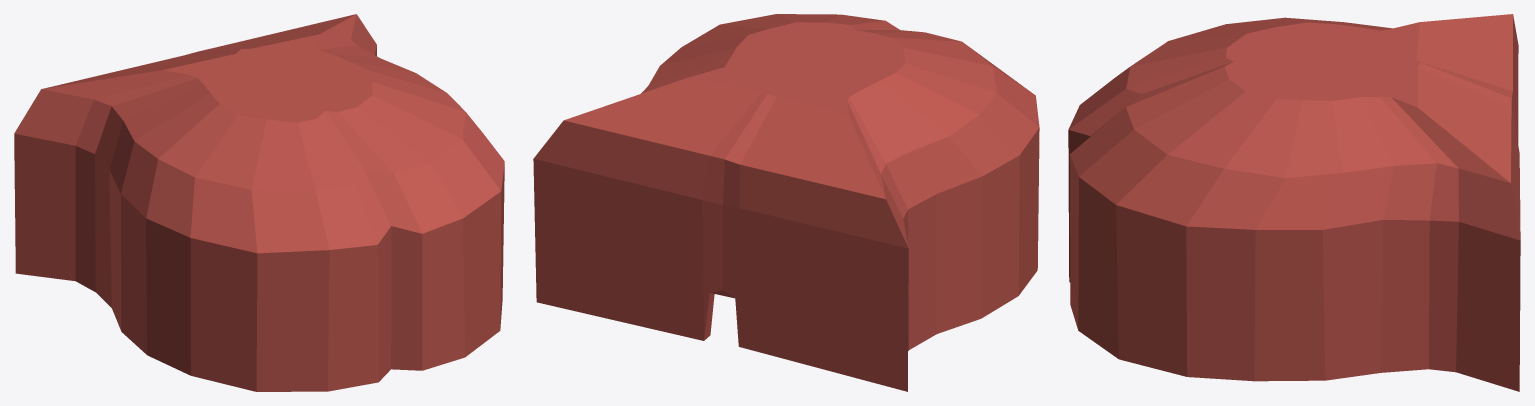
Rendered from testiclemap1.fbx.
3 views of the same model, side by side, from view 1: azimuth 30°, elevation 25°; view 2: azimuth 150°, elevation 25°; view 3: azimuth 270°, elevation 25° (orthographic). The views are drawn at different scales.
Visible parts, largest first — view 1: Cube; view 2: Cube; view 3: Cube.
Part boxes in pixels (x1=…): Cube: x1=14, y1=14, x2=504, y2=391; Cube: x1=533, y1=14, x2=1039, y2=391; Cube: x1=1068, y1=14, x2=1520, y2=391.
Size of the model in its own units: 1554 by 873 by 1524.
Materials: 5 (1 with a texture image).
